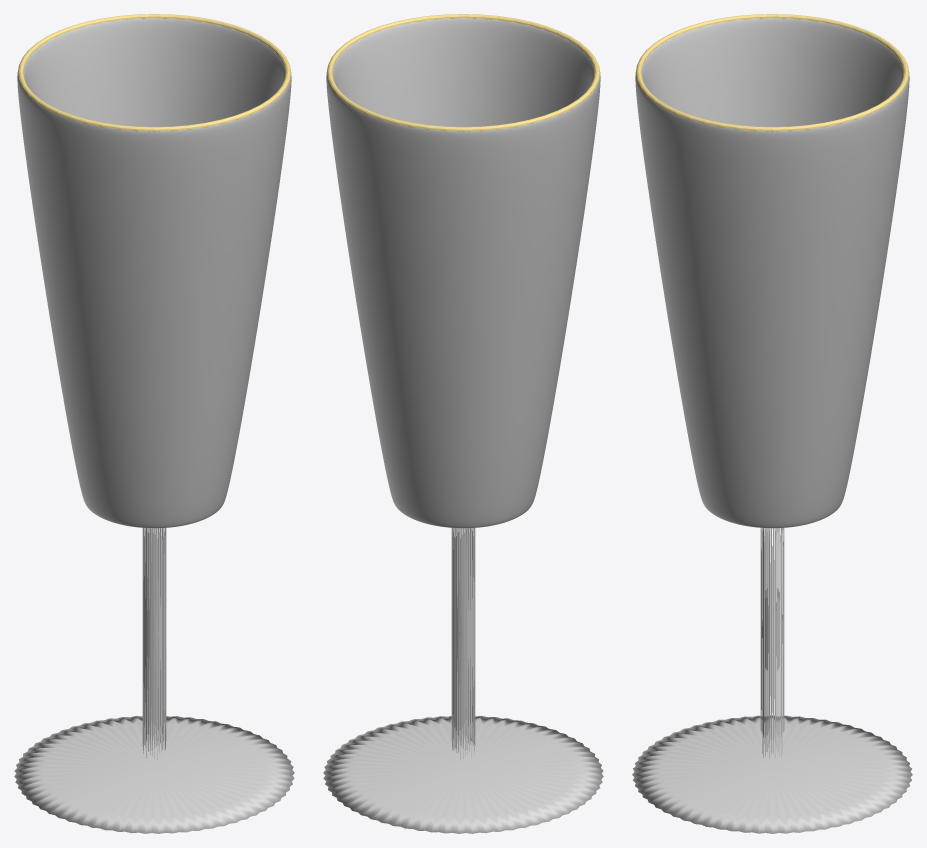
3 views of the same model, side by side, from view 1: azimuth 30°, elevation 25°; view 2: azimuth 150°, elevation 25°; view 3: azimuth 270°, elevation 25° (orthographic).
Parts seen in each view (by area): view 1: Wine_Glass, Rim_Detail; view 2: Wine_Glass, Rim_Detail; view 3: Wine_Glass, Rim_Detail.
Boxes of the visible parts, x1,y1,x2,y2 form: Wine_Glass: (14, 18, 294, 833); Rim_Detail: (17, 14, 291, 131); Wine_Glass: (323, 18, 603, 833); Rim_Detail: (326, 14, 600, 131); Wine_Glass: (632, 18, 912, 833); Rim_Detail: (635, 14, 909, 131).
Bounding box in the file's own units: 0.0719 × 0.2007 × 0.0719.
